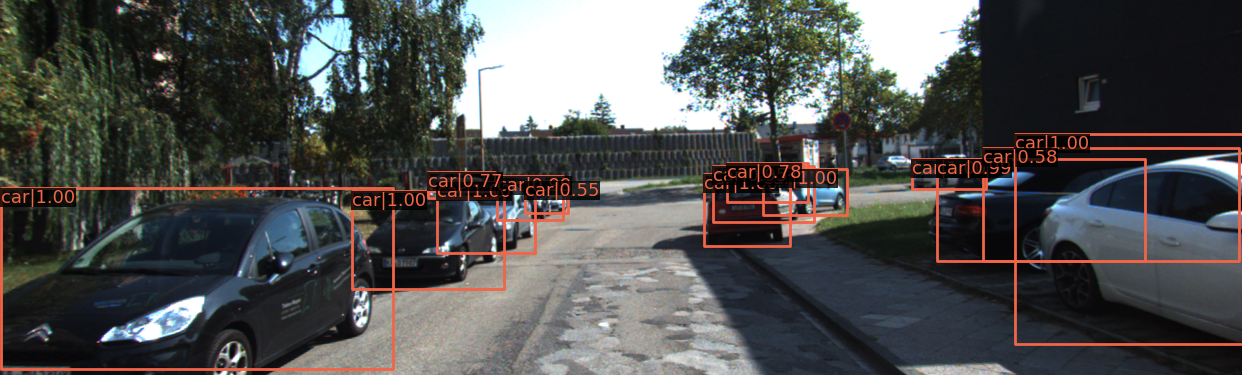car: (1, 194, 380, 375), (1029, 145, 1242, 359), (931, 158, 1242, 280), (356, 190, 501, 288), (437, 184, 537, 253), (703, 176, 786, 251), (720, 175, 803, 230), (764, 167, 850, 217), (501, 175, 556, 223), (911, 163, 993, 191), (506, 179, 567, 215), (423, 171, 486, 193)
